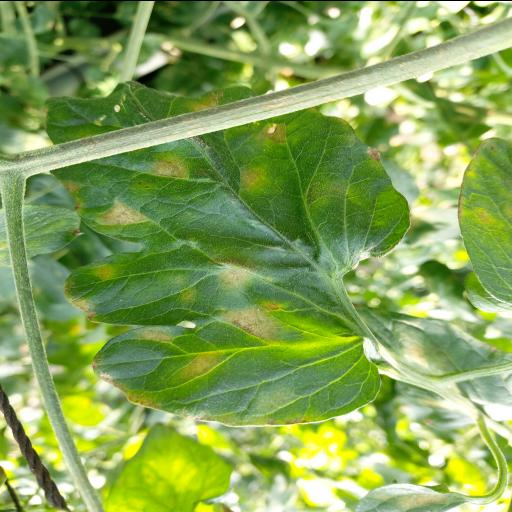disease_tomato: (42, 82, 410, 424)
